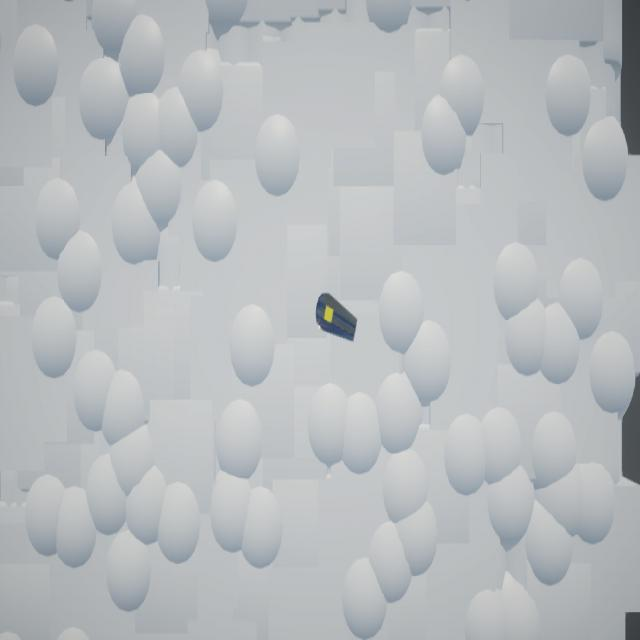handle_folk: (316, 294, 358, 343)
